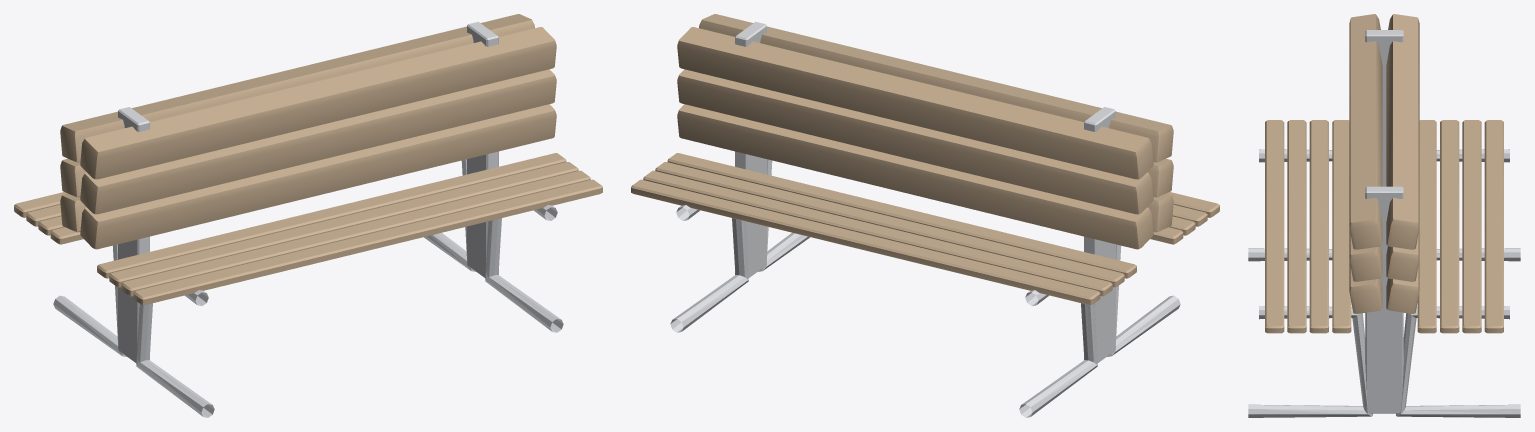
Rendered from SM_Retail_25367_BackToBackBench.fbx.
The picture shows the model from 3 angles, left to right: view 1: azimuth 30°, elevation 25°; view 2: azimuth 150°, elevation 25°; view 3: azimuth 270°, elevation 25°; orthographic projection. The views are drawn at different scales.
Parts seen in each view (by area): view 1: SM_Retail_25367_BackToBackBench; view 2: SM_Retail_25367_BackToBackBench; view 3: SM_Retail_25367_BackToBackBench.
Boxes of the visible parts, x1,y1,x2,y2 form: SM_Retail_25367_BackToBackBench: (14, 14, 602, 417); SM_Retail_25367_BackToBackBench: (631, 14, 1219, 417); SM_Retail_25367_BackToBackBench: (1248, 14, 1520, 417).
Size of the model in its own units: 180 by 100 by 92.6.
